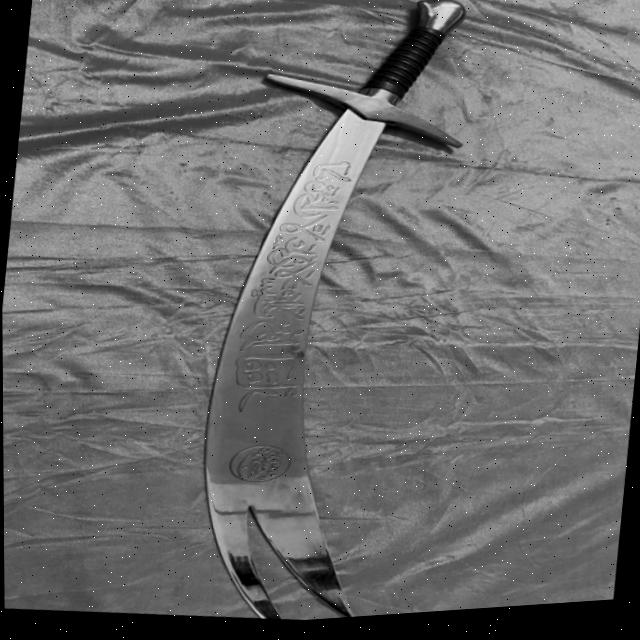knife: (173, 0, 485, 631)
